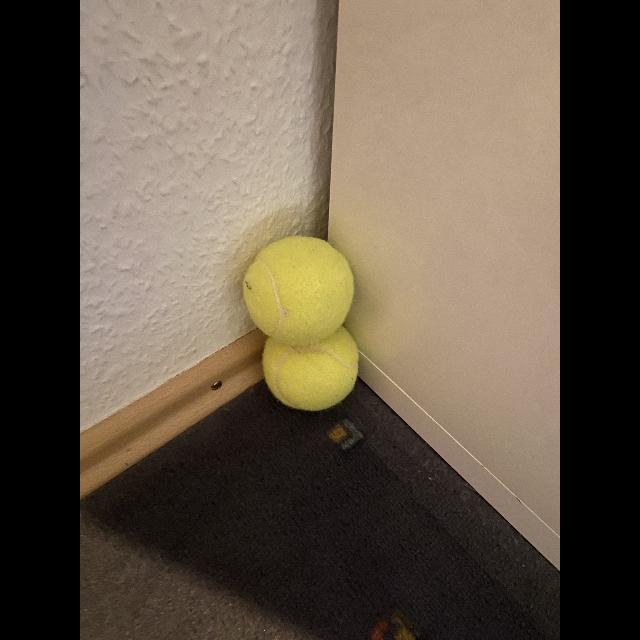Tennisball: (243, 237, 354, 347), (263, 327, 359, 411)
